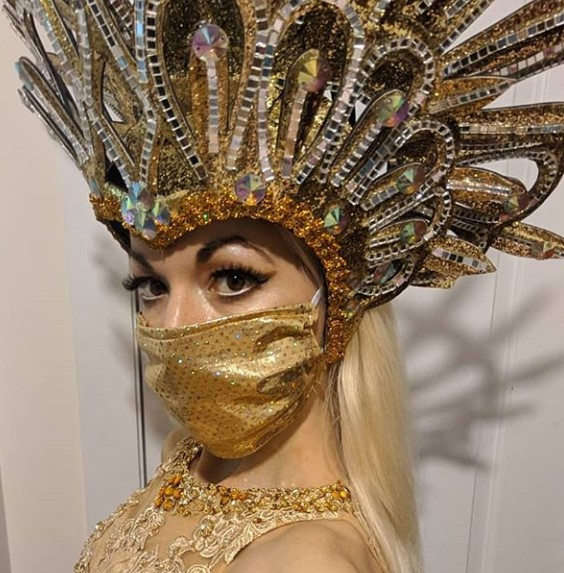face_with_mask: (116, 172, 360, 462)
